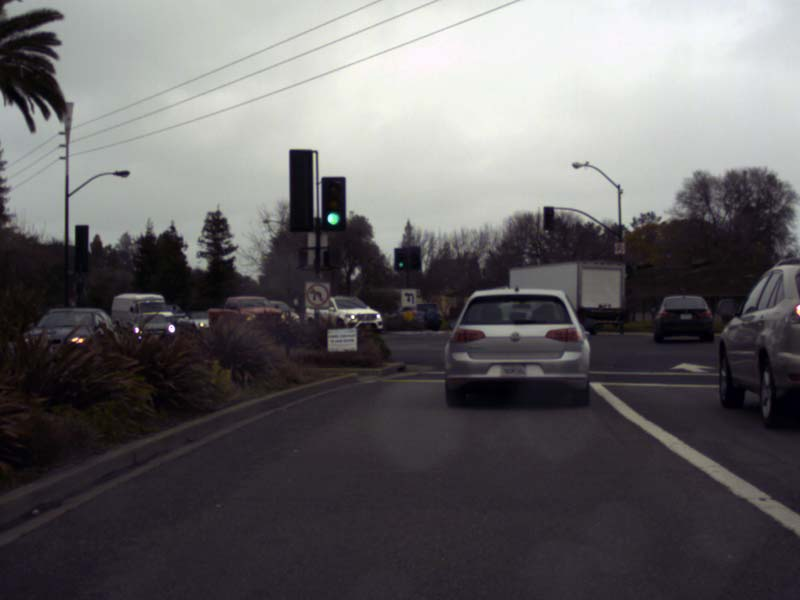Green: (322, 177, 344, 229), (395, 248, 405, 269)
Red: (542, 205, 554, 230), (409, 247, 420, 269)
